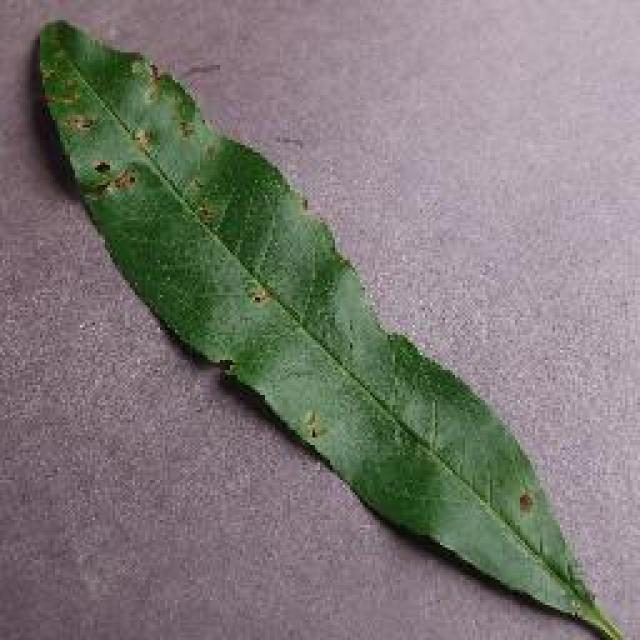Peach_Bacterial_Spot: (29, 32, 308, 273)
